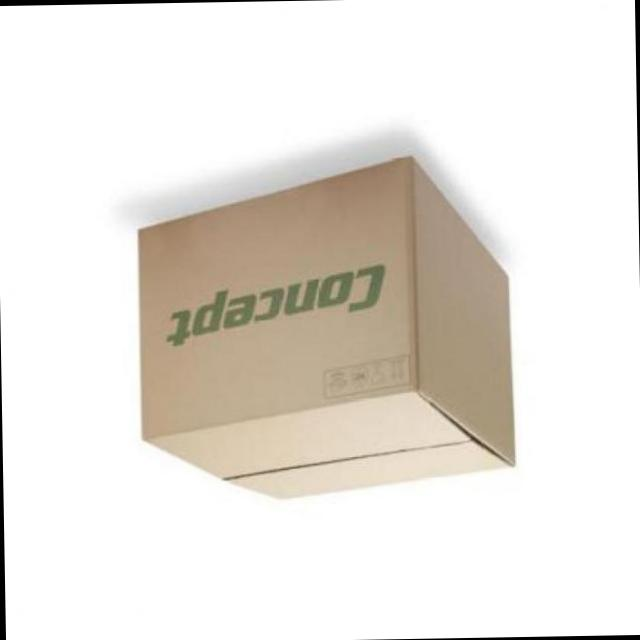box: (130, 152, 518, 507)
